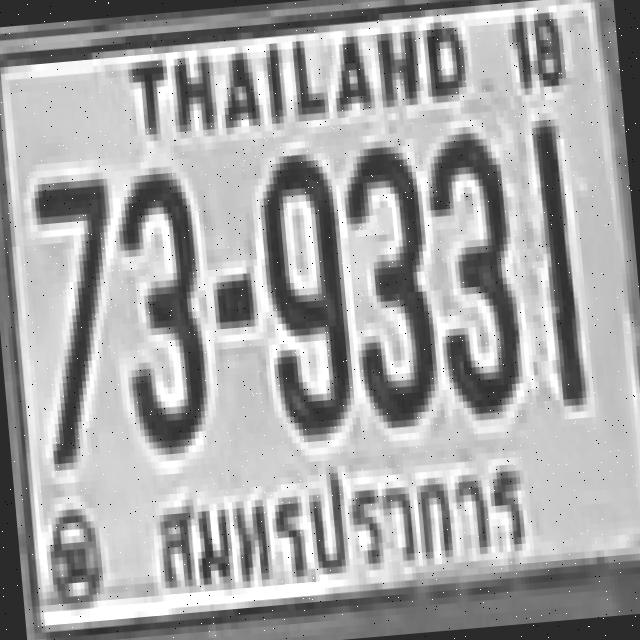1: (531, 118, 582, 400)
3: (340, 138, 438, 423), (110, 165, 208, 450), (423, 128, 521, 412)
7: (29, 172, 127, 464)
9: (255, 146, 352, 430)
SamutPrakan: (143, 436, 548, 604)
